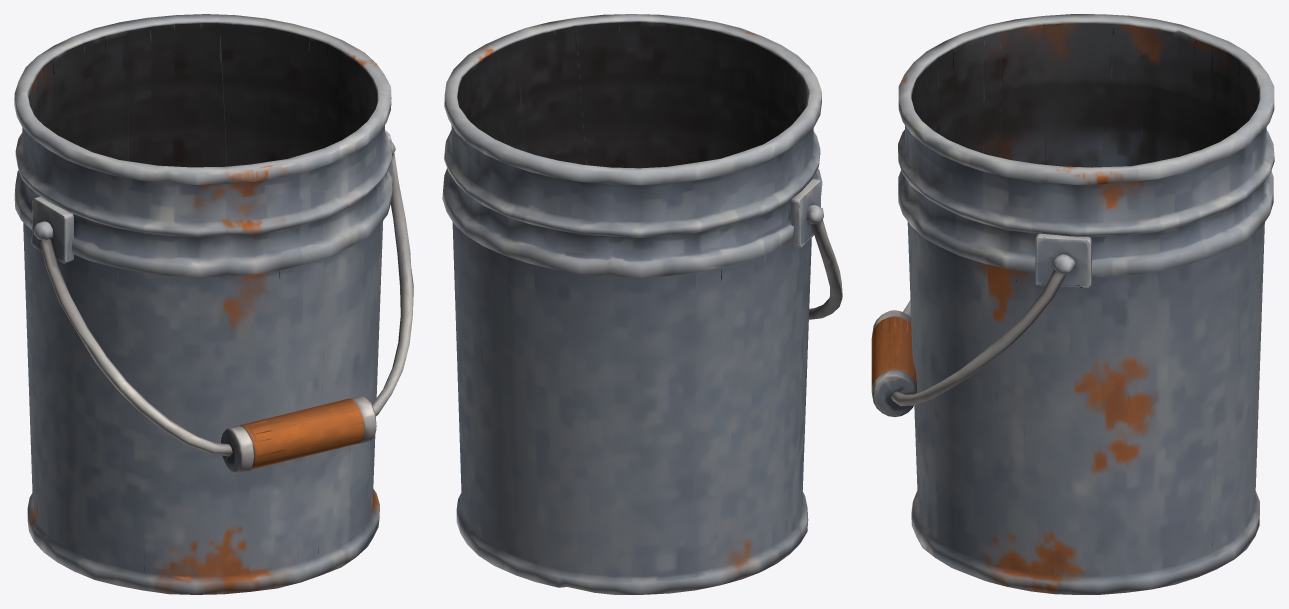
Rendered from bucket_meshy_unused.glb.
3 renders of one model, left to right at view 1: azimuth 30°, elevation 25°; view 2: azimuth 150°, elevation 25°; view 3: azimuth 270°, elevation 25°, orthographic.
Visible parts, largest first — view 1: geometry_0; view 2: geometry_0; view 3: geometry_0.
Part boxes in pixels (left/top/right/bottom): geometry_0: left=14, top=14, right=413, bottom=594; geometry_0: left=442, top=14, right=842, bottom=594; geometry_0: left=871, top=14, right=1274, bottom=594.
Size of the model in its own units: 0.8286 by 0.9512 by 0.8066.
Materials: 1 (1 with a texture image).
